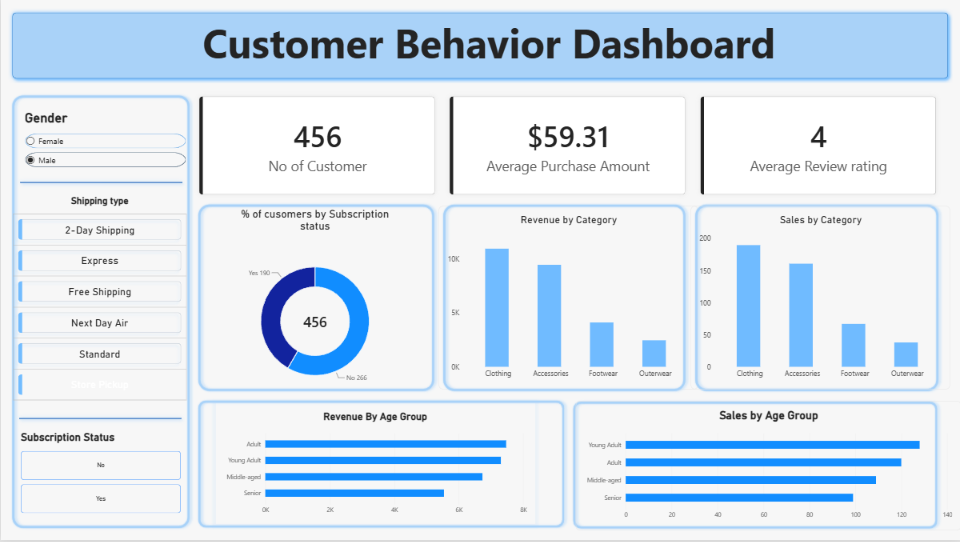

Layout of this report page (visuals, bound fields, positions):
{"tool":"powerbi","page":{"name":"Page 1","canvas":[1920,1080],"ordinal":0},"visuals":[{"type":"cardVisual","fields":{"Data":["public customer.No of Customer","public customer.Average Purchase Amount","public customer.Average Review rating"]},"box":[387,181.1,1496.4,218.2],"z":0},{"type":"shape","box":[14.4,16.5,1889.5,150.3],"z":1000},{"type":"textbox","box":[47.3,30.9,1856.6,113.2],"z":2000},{"type":"shape","box":[387,399.3,489.9,391.1],"z":3000},{"type":"donutChart","title":"% of cusomers by Subscription status","fields":{"Category":["public customer.subscription_status"],"Y":["CountNonNull(public customer.customer_id)"]},"box":[436.4,399.3,384.9,422],"z":4000},{"type":"clusteredColumnChart","title":"Revenue by Category","fields":{"Category":["public customer.category"],"Y":["Sum(public customer.purchase_amount)"]},"box":[876.8,411.7,518.7,366.4],"z":5000},{"type":"shape","box":[876.8,399.3,502.2,391.1],"z":6000},{"type":"shape","box":[1379.1,399.3,504.3,391.1],"z":7000},{"type":"clusteredColumnChart","title":"Sales by Category","fields":{"Category":["public customer.category"],"Y":["CountNonNull(public customer.customer_id)"]},"box":[1379.1,411.7,518.7,366.4],"z":8000},{"type":"shape","box":[14.4,181.1,372.6,883],"z":9000},{"type":"advancedSlicerVisual","title":"Shipping type","fields":{"Values":["public customer.shipping_type"]},"box":[24,390,348,416],"z":10000},{"type":"listSlicer","title":"Gender","fields":{"Values":["public customer.gender"]},"box":[42,214,334,152],"z":11000},{"type":"shape","box":[28,716,342,242],"z":12000},{"type":"shape","box":[30,244,342,242],"z":13000},{"type":"advancedSlicerVisual","title":"Subscription Status","fields":{"Values":["public customer.subscription_status"]},"box":[40,862,320,164],"z":14000},{"type":"clusteredBarChart","title":"Revenue By Age Group","fields":{"Category":["public customer.age_group"],"Y":["Sum(public customer.purchase_amount)"]},"box":[430,806,638,242],"z":15000},{"type":"shape","box":[386,792,750,272],"z":16000},{"type":"shape","box":[1136,794,746,272],"z":17000},{"type":"clusteredBarChart","title":"Sales by Age Group","fields":{"Category":["public customer.age_group"],"Y":["CountNonNull(public customer.customer_id)"]},"box":[1150,802,770,258],"z":18000}]}

Visuals, with their boxes in screenshot pixels (x1, y1, x2, y2), scaled from the page's 1920x1080 canvas onto the 960x542 screenshot:
cardVisual - public customer.No of Customer x public customer.Average Purchase Amount: detection(194, 91, 942, 200)
shape: detection(7, 8, 952, 84)
textbox: detection(24, 16, 952, 72)
shape: detection(194, 200, 438, 397)
"% of cusomers by Subscription status" donutChart: detection(218, 200, 411, 412)
"Revenue by Category" clusteredColumnChart: detection(438, 207, 698, 390)
shape: detection(438, 200, 690, 397)
shape: detection(690, 200, 942, 397)
"Sales by Category" clusteredColumnChart: detection(690, 207, 949, 390)
shape: detection(7, 91, 194, 534)
"Shipping type" advancedSlicerVisual: detection(12, 196, 186, 404)
"Gender" listSlicer: detection(21, 107, 188, 184)
shape: detection(14, 359, 185, 481)
shape: detection(15, 122, 186, 244)
"Subscription Status" advancedSlicerVisual: detection(20, 433, 180, 515)
"Revenue By Age Group" clusteredBarChart: detection(215, 404, 534, 526)
shape: detection(193, 397, 568, 534)
shape: detection(568, 398, 941, 535)
"Sales by Age Group" clusteredBarChart: detection(575, 402, 959, 532)
